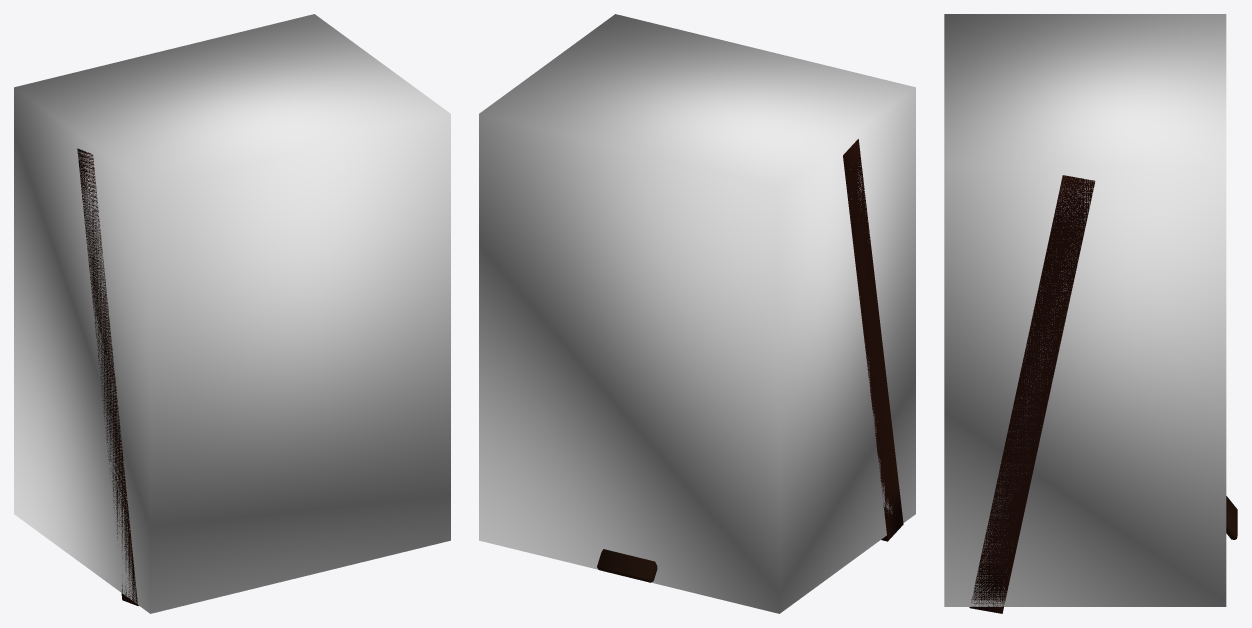
Rendered from marco_foto.glb.
The picture shows the model from 3 angles, left to right: view 1: azimuth 30°, elevation 25°; view 2: azimuth 150°, elevation 25°; view 3: azimuth 270°, elevation 25°; orthographic projection. The views are drawn at different scales.
Visible parts, largest first — view 1: marco-colcaja, marco; view 2: marco-colcaja, marco; view 3: marco-colcaja, marco.
Boxes of the visible parts, x1=… form: marco-colcaja: x1=14, y1=14, x2=450, y2=613; marco: x1=77, y1=148, x2=138, y2=605; marco-colcaja: x1=479, y1=14, x2=915, y2=613; marco: x1=597, y1=139, x2=903, y2=582; marco-colcaja: x1=944, y1=14, x2=1226, y2=606; marco: x1=969, y1=175, x2=1237, y2=613.
Bounding box in the file's own units: 0.14 × 0.193 × 0.1144.
